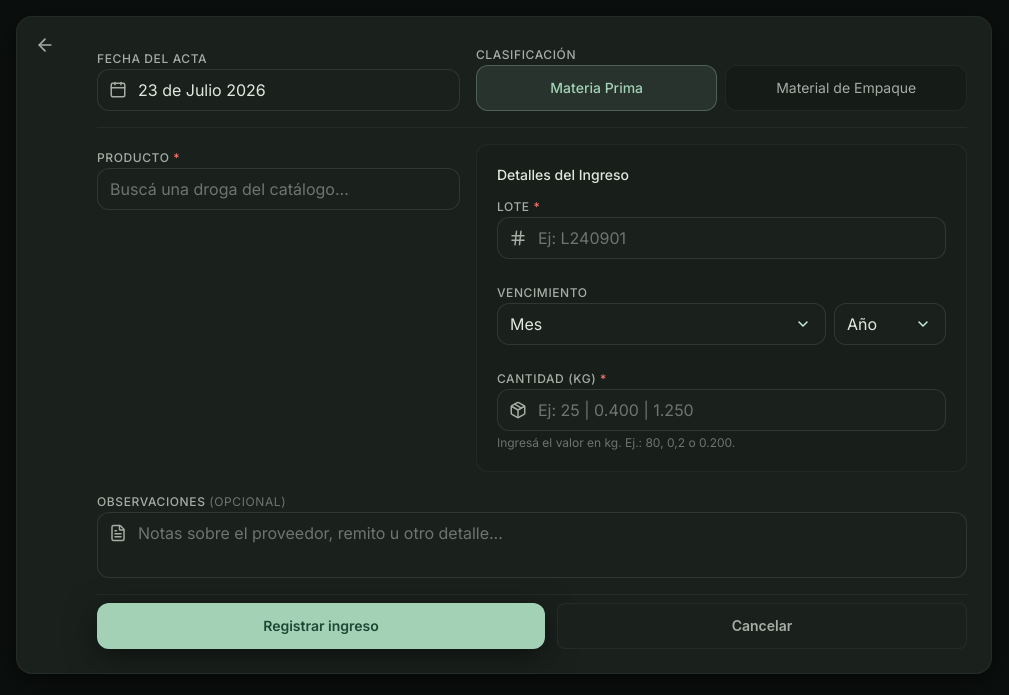
it: ActaNuevaPage › switches to ME mode showing subcategories
Click the button "Material de Empaque" at (846, 88), box [726,65,967,111]
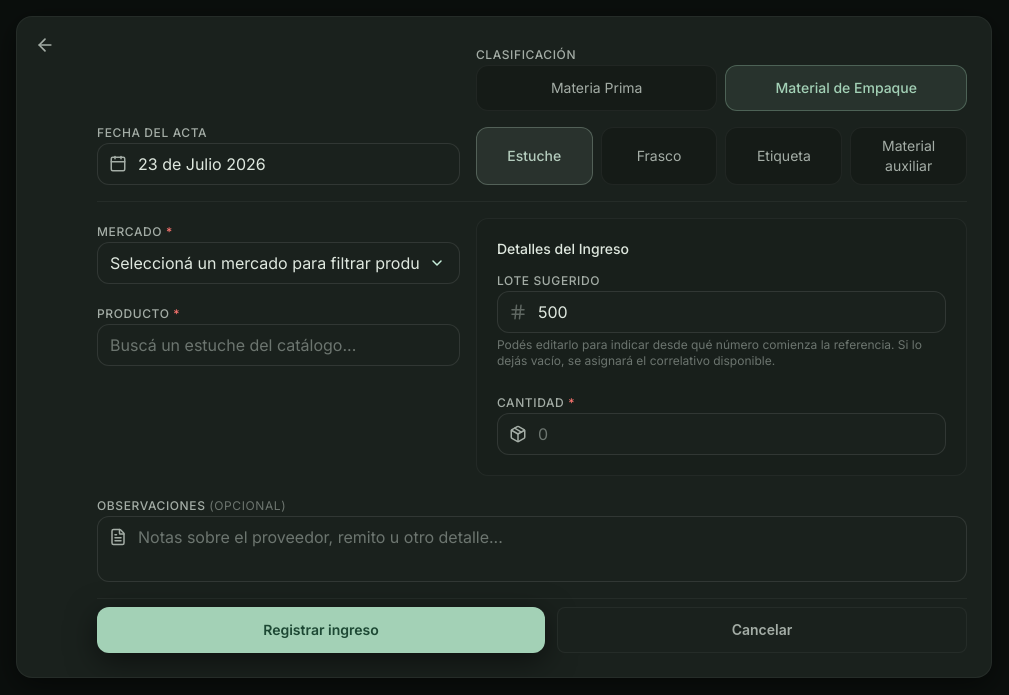
expect the button "Estuche" is shown: met, box [476,127,593,185]
expect the button "Frasco" is shown: met, box [601,127,718,185]
expect the button "Etiqueta" is shown: met, box [726,127,842,185]
